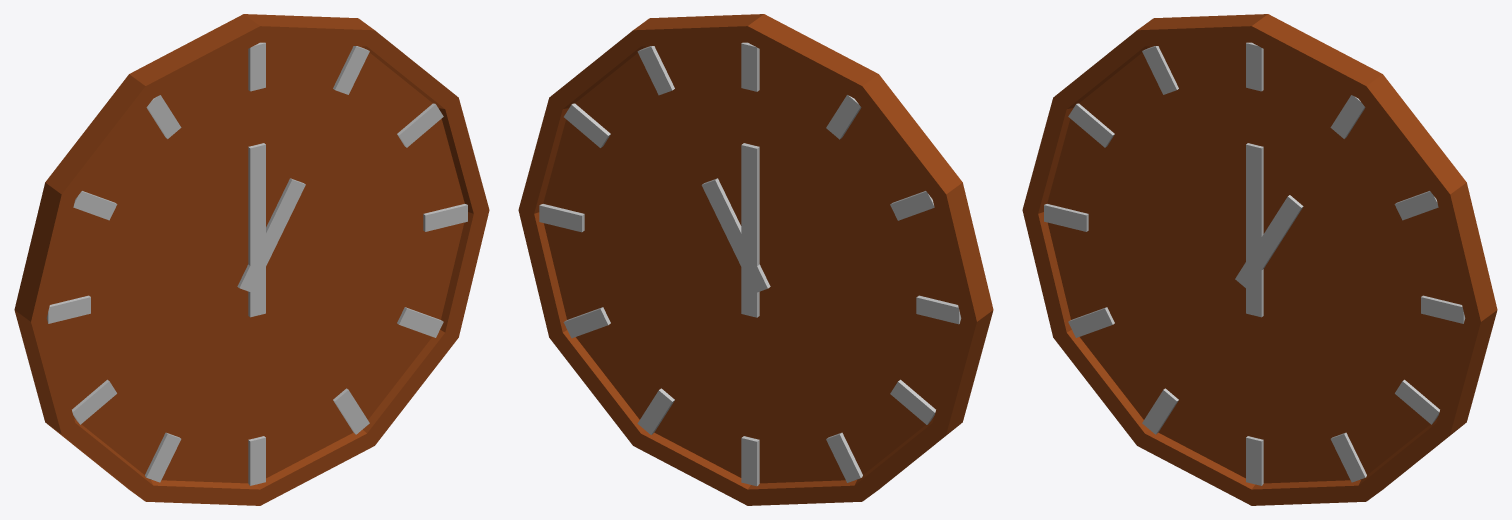
The model's file is jiansu.FBX.
3 renders of one model, left to right at view 1: azimuth 30°, elevation 25°; view 2: azimuth 150°, elevation 25°; view 3: azimuth 330°, elevation 25°, orthographic.
Visible parts, largest first — view 1: 对象002, Cylinder016; view 2: 对象002, Cylinder016; view 3: 对象002, Cylinder016.
Boxes of the visible parts, left/top/right/bottom form: 对象002: left=14, top=14, right=489, bottom=505; Cylinder016: left=46, top=42, right=467, bottom=485; 对象002: left=518, top=14, right=993, bottom=505; Cylinder016: left=539, top=42, right=961, bottom=486; 对象002: left=1022, top=14, right=1497, bottom=505; Cylinder016: left=1044, top=42, right=1465, bottom=485.
Size of the model in its own units: 22.78 by 22.78 by 1.42.
